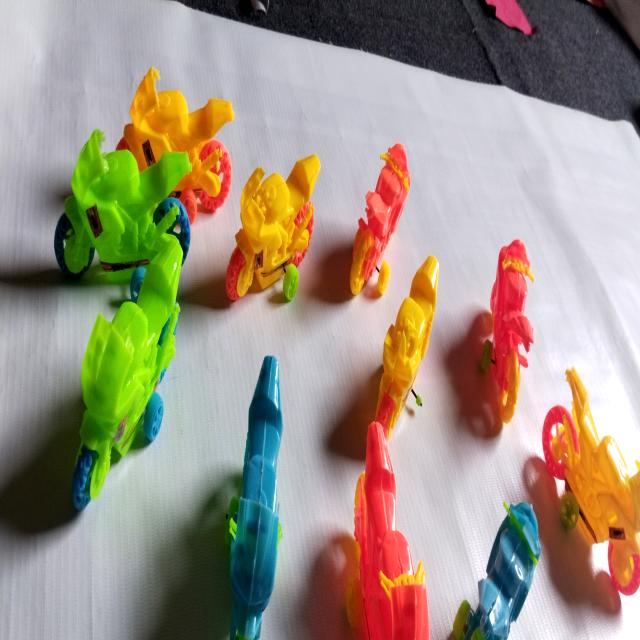bikes: (72, 233, 182, 510), (55, 130, 190, 301), (543, 367, 640, 594), (116, 68, 234, 223), (355, 422, 429, 640), (230, 356, 283, 640), (226, 154, 320, 300), (376, 256, 437, 439), (464, 502, 541, 640), (350, 144, 410, 295), (491, 239, 534, 423)
others: (181, 0, 640, 135), (605, 0, 640, 49), (485, 0, 532, 35), (251, 0, 267, 14), (587, 0, 605, 8)
